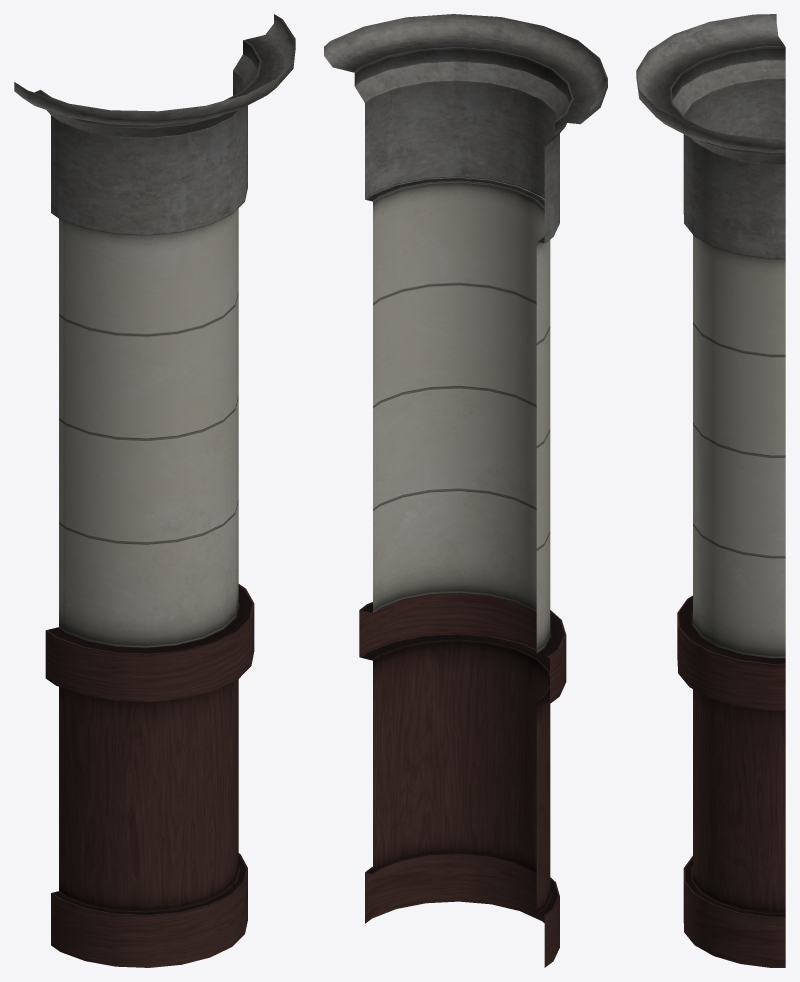
File: Wall 6 Pillar 3.fbx
The picture shows the model from 3 angles, left to right: view 1: azimuth 30°, elevation 25°; view 2: azimuth 150°, elevation 25°; view 3: azimuth 270°, elevation 25°; orthographic projection. The views are drawn at different scales.
Parts seen in each view (by area): view 1: Wall_6_Pillar_3; view 2: Wall_6_Pillar_3; view 3: Wall_6_Pillar_3.
Part boxes in pixels (x1,y1,x2,y2): Wall_6_Pillar_3: (14,14,295,967); Wall_6_Pillar_3: (324,14,607,967); Wall_6_Pillar_3: (636,14,785,967).
Bounding box in the file's own units: 95.06 × 300 × 47.75.
